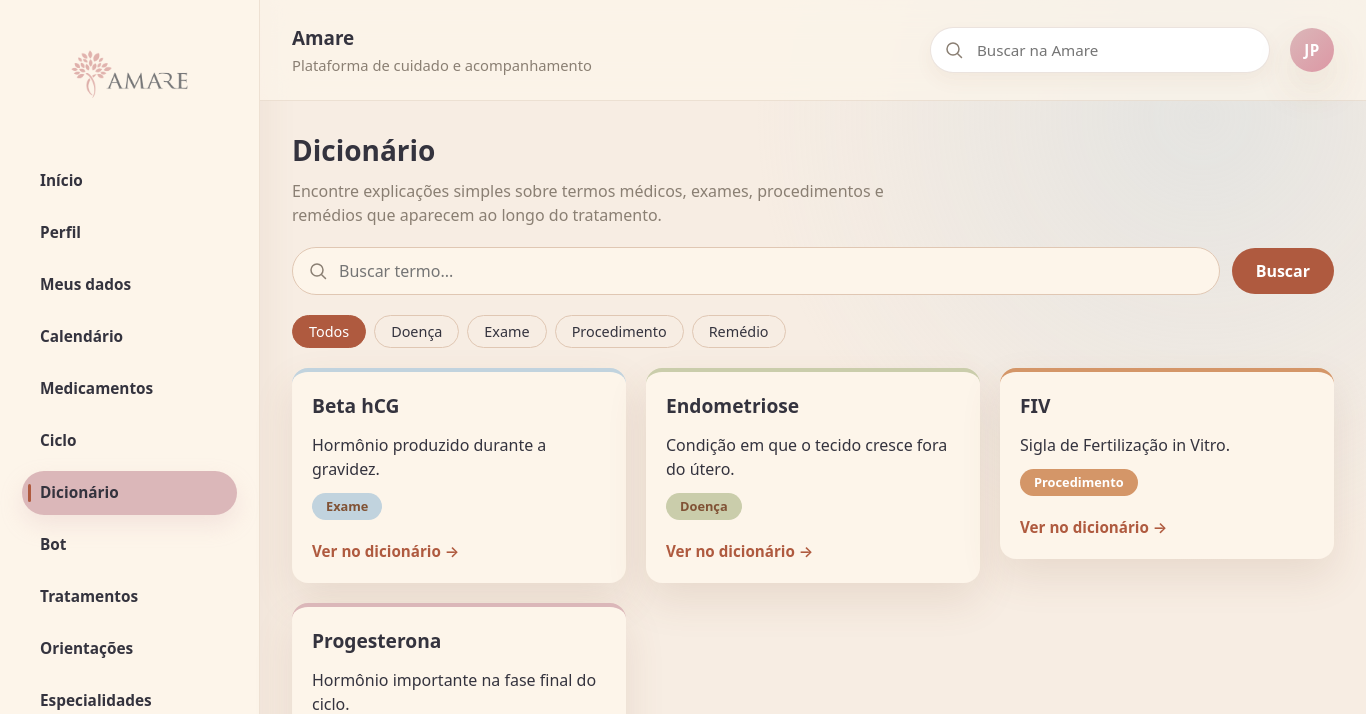
Scenario: Dicionário da Amare › filtra o grid ao selecionar uma categoria nos chips
The image size is (1366, 714).
Click the button with test id "dicionario-filtro-chip" showing "Doença" at (417, 332), box [374,315,459,348]
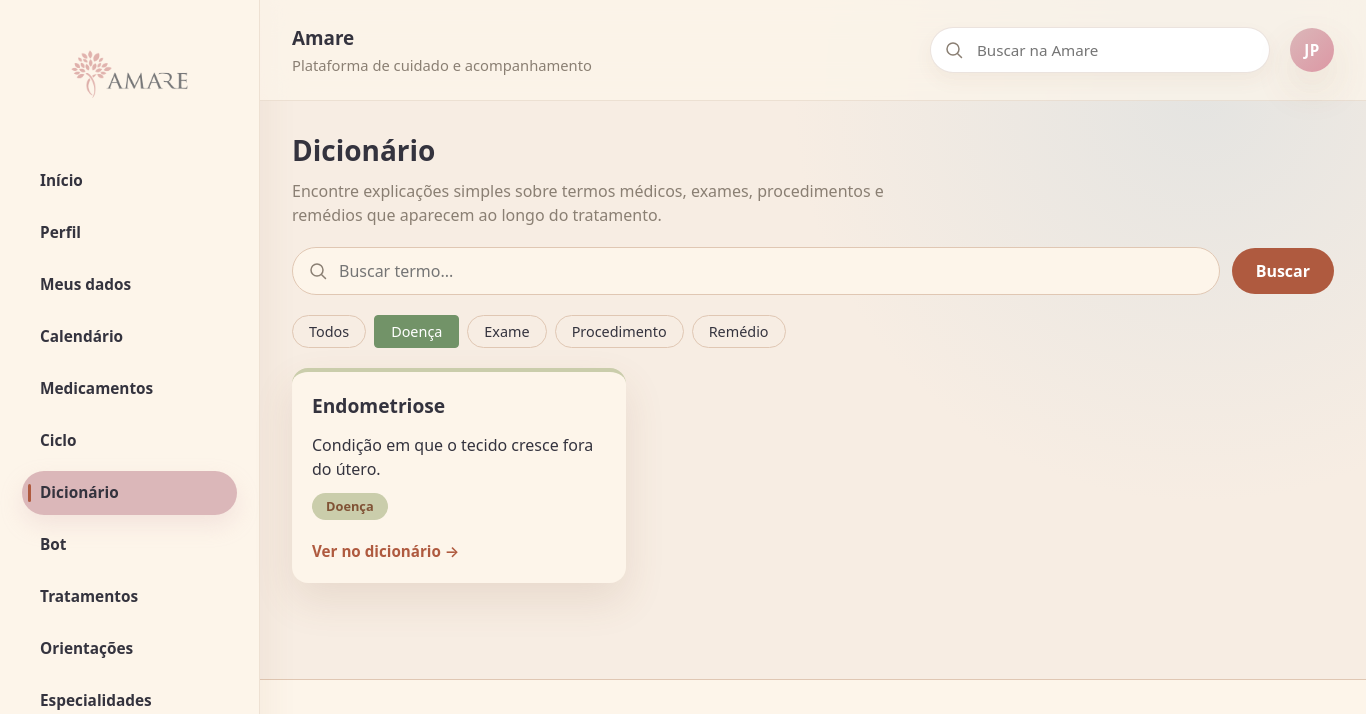
expect the heading with test id "dicionario-grid" reads "Endometriose": met, box [312,392,445,419]
expect the number of elements with test id "dicionario-card" is 1: met, box [292,368,626,583]
expect the link with test id "dicionario-grid" no longer shows "FIV": met
